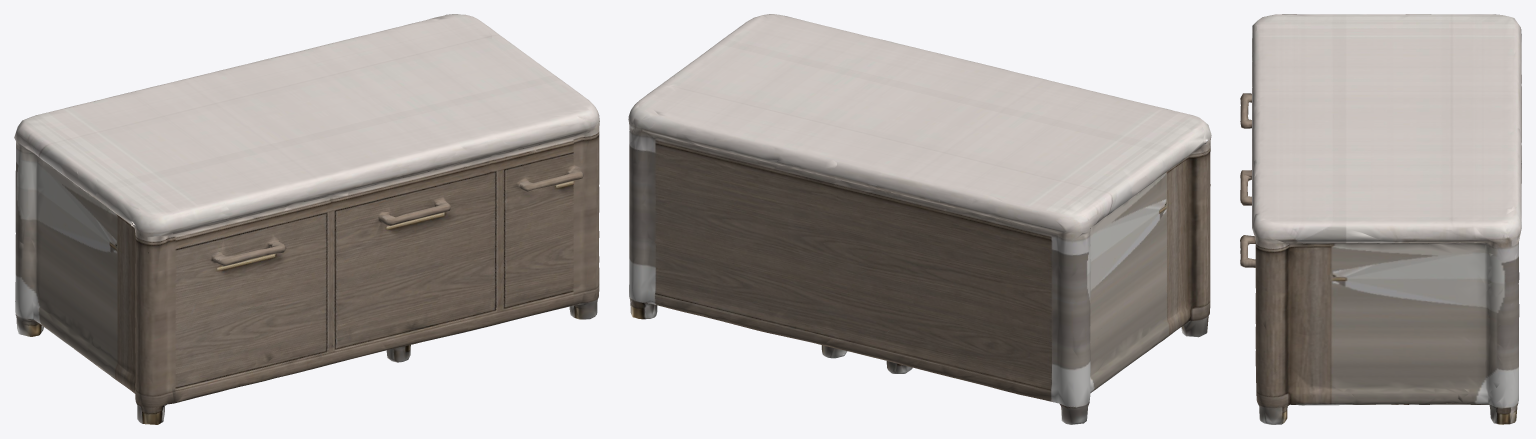
Rendered from sideboard.glb.
3 views of the same model, side by side, from view 1: azimuth 30°, elevation 25°; view 2: azimuth 150°, elevation 25°; view 3: azimuth 270°, elevation 25° (orthographic). The views are drawn at different scales.
Parts seen in each view (by area): view 1: geometry_0; view 2: geometry_0; view 3: geometry_0.
Boxes of the visible parts, bbox=[...] form: geometry_0: bbox=[14, 14, 599, 424]; geometry_0: bbox=[628, 14, 1211, 424]; geometry_0: bbox=[1240, 14, 1521, 424].
Bounding box in the file's own units: 1.97 × 0.864 × 1.09.
Materials: 1 (1 with a texture image).
